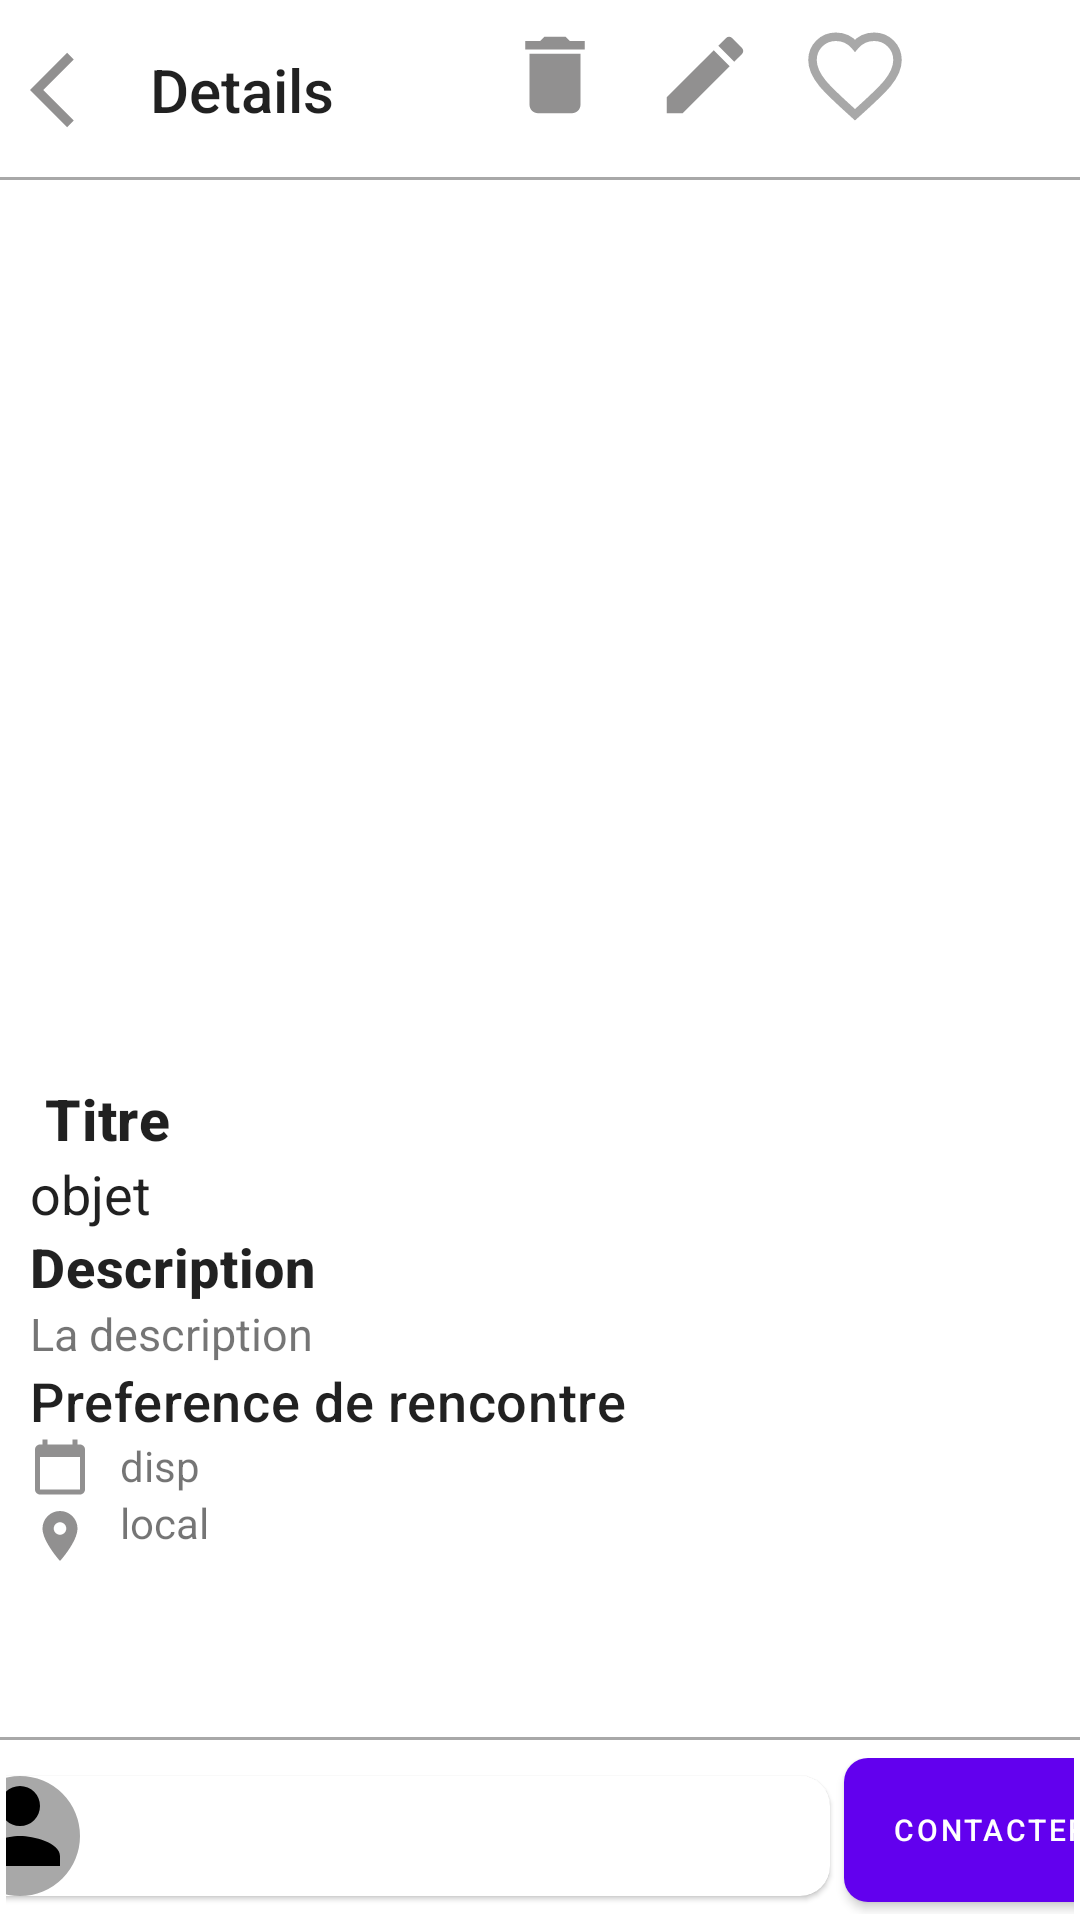

Locate icon controls on the screen. Image size 1080 x 1920, boxes as [x1=x1, y1=y1, x2=x2, y2=y2].
back arrow: [x1=30, y1=53, x2=74, y2=127]
calendar: [x1=35, y1=1439, x2=85, y2=1495]
delete: [x1=525, y1=36, x2=585, y2=114]
heart: [x1=808, y1=32, x2=902, y2=120]
location on: [x1=42, y1=1511, x2=78, y2=1561]
mode edit: [x1=666, y1=37, x2=743, y2=114]
